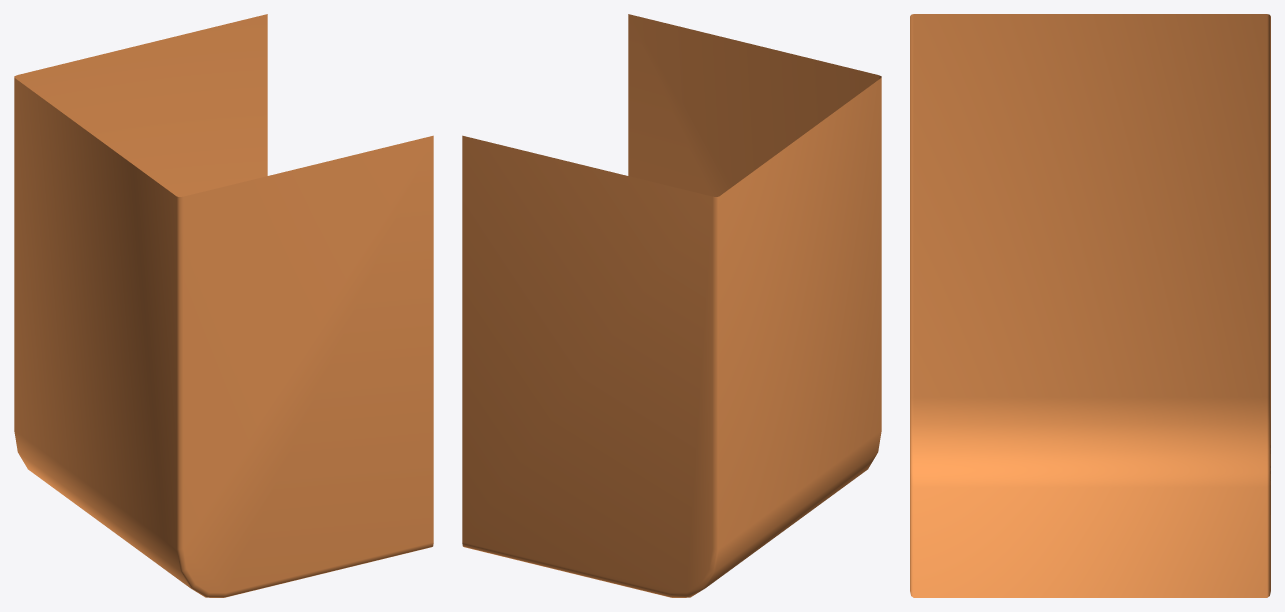
Rendered from Container.glb.
The picture shows the model from 3 angles, left to right: view 1: azimuth 30°, elevation 25°; view 2: azimuth 150°, elevation 25°; view 3: azimuth 270°, elevation 25°; orthographic projection. The views are drawn at different scales.
Parts seen in each view (by area): view 1: Plane; view 2: Plane; view 3: Plane.
Part boxes in pixels (x1,y1,x2,y2): Plane: [14, 14, 433, 597]; Plane: [462, 14, 881, 597]; Plane: [910, 14, 1270, 597].
Size of the model in its own units: 3.13 by 4.84 by 3.53.
